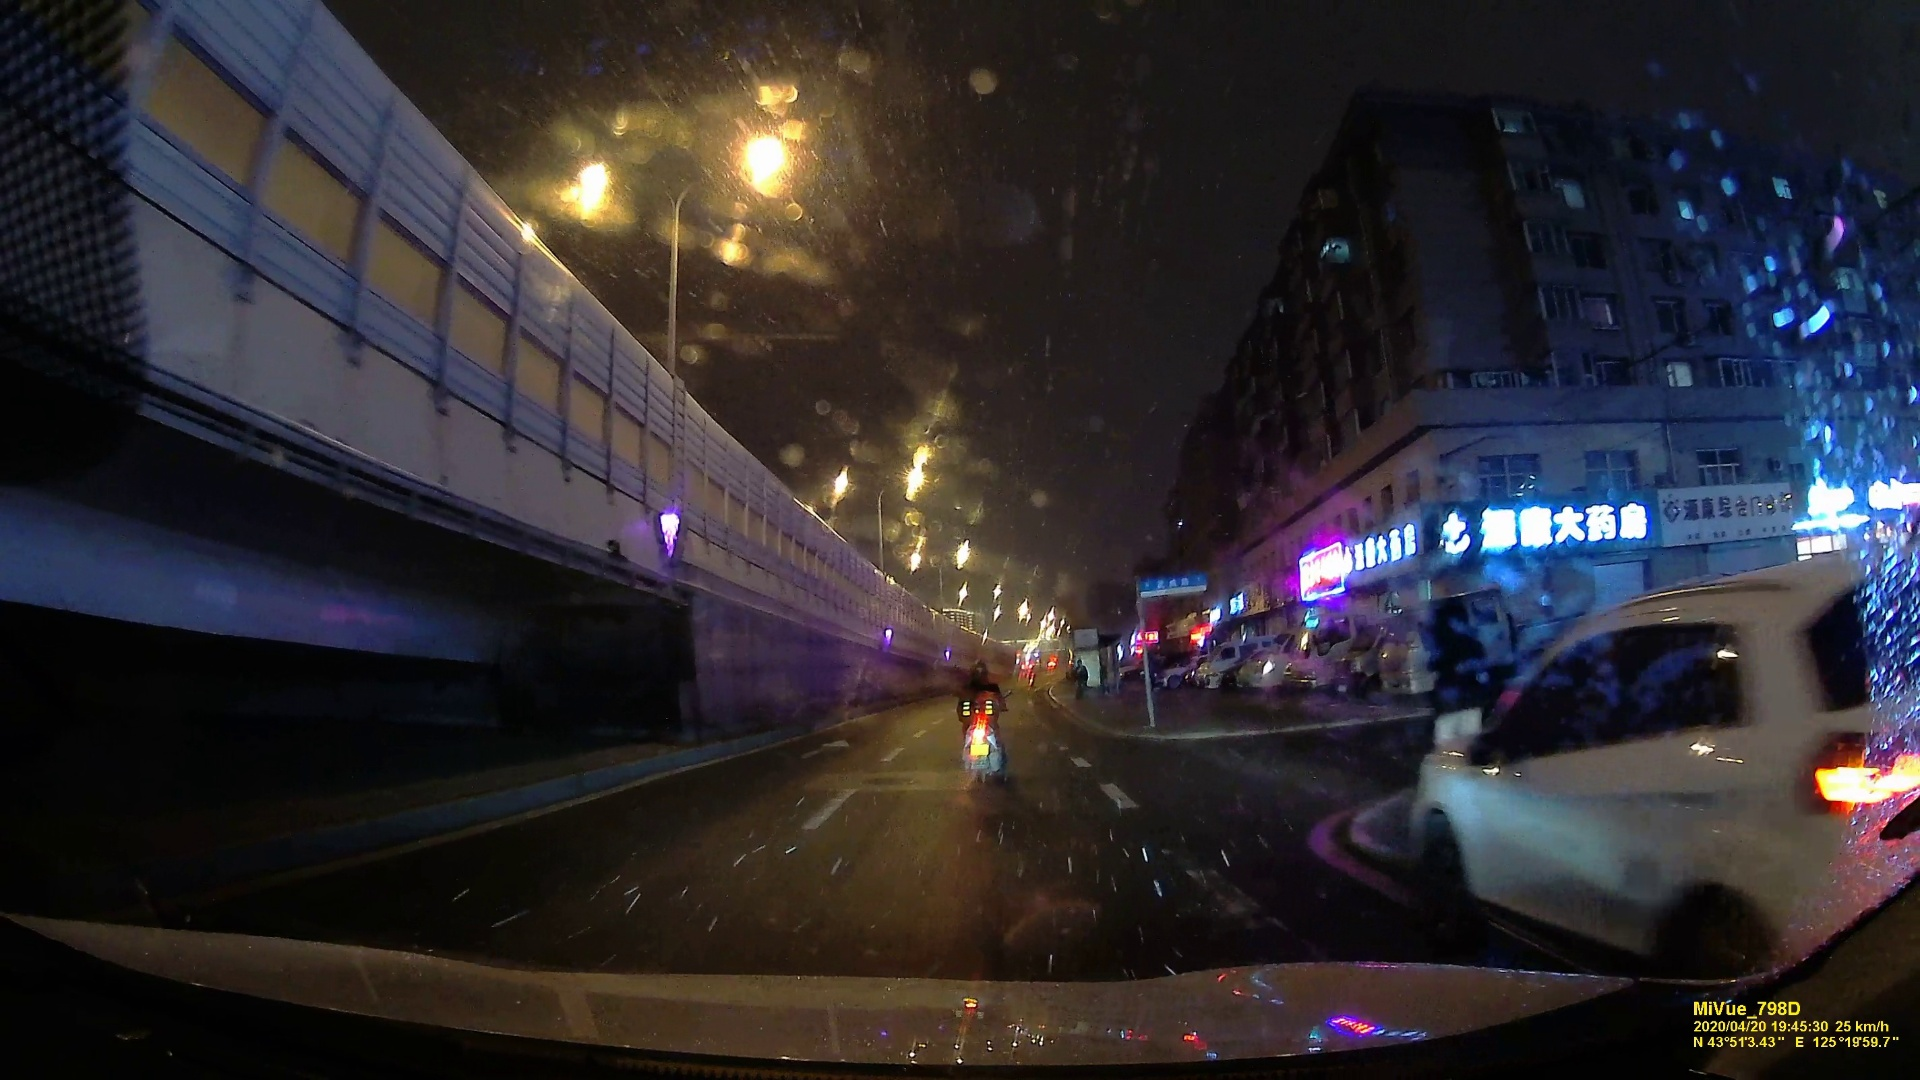person: (957, 661, 1004, 731), (1072, 658, 1089, 697)
traffic_sign: (1138, 577, 1203, 593)
vehicle: (1408, 571, 1912, 964)
